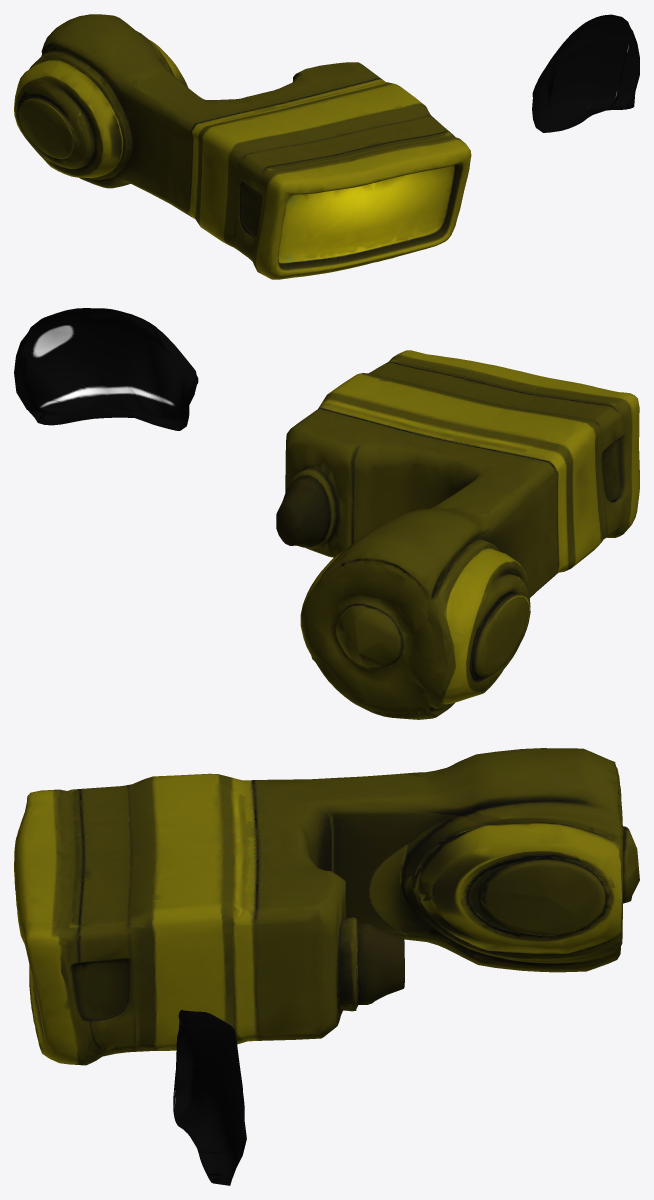
File: Scanner Gold.glb
3 renders of one model, top to bottom at view 1: azimuth 30°, elevation 25°; view 2: azimuth 150°, elevation 25°; view 3: azimuth 270°, elevation 25°, orthographic. The views are drawn at different scales.
Parts seen in each view (by area): view 1: Mesh_0.003; view 2: Mesh_0.003; view 3: Mesh_0.003.
Boxes of the visible parts, x1=… form: Mesh_0.003: x1=14, y1=14, x2=639, y2=279; Mesh_0.003: x1=14, y1=308, x2=639, y2=719; Mesh_0.003: x1=14, y1=748, x2=639, y2=1185.
Bounding box in the file's own units: 0.5168 × 0.1423 × 0.3922.
Materials: 2 (2 with a texture image).
